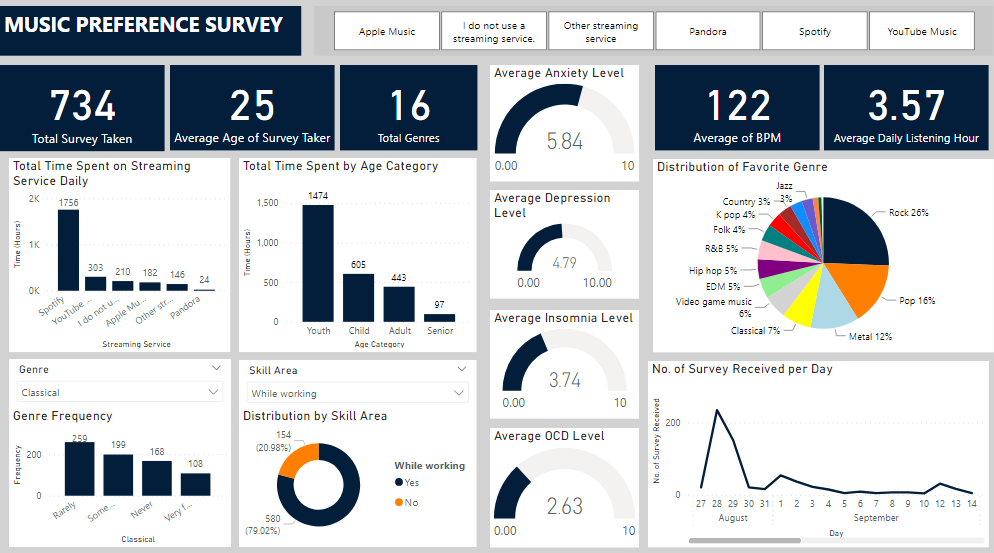

Layout of this report page (visuals, bound fields, positions):
{"tool":"powerbi","page":{"name":"Page 1","canvas":[1280,720],"ordinal":0},"visuals":[{"type":"textbox","box":[0,13.4,388,63.8],"z":0},{"type":"slicer","fields":{"Values":["survey_result.Primary streaming service"]},"box":[404.8,13.4,875.2,63.8],"z":1000},{"type":"card","fields":{"Values":["CountNonNull(survey_result.Timestamp)"]},"box":[0,89,211.7,110.9],"z":2000},{"type":"card","fields":{"Values":["Avg(survey_result.Age)"]},"box":[219.3,89.1,212.2,110.3],"z":3000},{"type":"card","fields":{"Values":["Avg(survey_result.BPM)"]},"box":[843.1,89.1,212.2,110.3],"z":4000},{"type":"card","fields":{"Values":["Avg(survey_result.Hours per day)"]},"box":[1060.9,89.1,212.2,110.3],"z":5000},{"type":"columnChart","title":"Total Time Spent on Streaming Service Daily","fields":{"Y":["Sum(survey_result.Hours per day)"],"Category":["survey_result.Primary streaming service"]},"box":[12,209,285,250],"z":6000},{"type":"clusteredColumnChart","title":"Total Time Spent by Age Category","fields":{"Category":["survey_result.Age Category"],"Y":["Sum(survey_result.Hours per day)"]},"box":[308,209,306,250],"z":7000},{"type":"slicer","fields":{"Values":["Parameter.Parameter"]},"box":[11,467,286,64],"z":8000},{"type":"columnChart","title":"Genre Frequency","fields":{"Category":["survey_result.Frequency [Country]"],"Y":["CountNonNull(survey_result.Timestamp)"]},"box":[11,531,286,179],"z":9000},{"type":"slicer","fields":{"Values":["Yes and No.Yes and No"]},"box":[308,469,306,62],"z":10000},{"type":"donutChart","title":"Distribution by Skill Area","fields":{"Category":["survey_result.Composer"],"Y":["CountNonNull(survey_result.Timestamp)"]},"box":[308,531,306,179],"z":11000},{"type":"lineChart","title":"No. of Survey Received  per Day","fields":{"Y":["CountNonNull(survey_result.Timestamp)"],"Category":["survey_result.Timestamp.Variation.Date Hierarchy.Month","survey_result.Timestamp.Variation.Date Hierarchy.Day"]},"box":[834.6,469.6,438.5,240.5],"z":12000},{"type":"gauge","title":"Average Anxiety Level","fields":{"Y":["Avg(survey_result.Anxiety)"],"MaxValue":["Max(survey_result.Anxiety)1"]},"box":[630.9,89.1,192.4,149.9],"z":13000},{"type":"gauge","title":"Average Depression Level","fields":{"Y":["Avg(survey_result.Depression)"],"MaxValue":["Max(survey_result.Depression)1"]},"box":[630.9,250.4,192.4,140],"z":14000},{"type":"gauge","title":"Average Insomnia Level","fields":{"Y":["Avg(survey_result.Insomnia)"],"MaxValue":["Max(survey_result.Insomnia)"]},"box":[630.9,404.6,192.4,140],"z":15000},{"type":"pieChart","title":"Distribution of Favorite Genre","fields":{"Y":["CountNonNull(survey_result.Fav genre)"],"Category":["survey_result.Fav genre"]},"box":[841.7,209.4,438.5,249],"z":16000},{"type":"card","fields":{"Values":["Count(survey_result.Fav genre)"]},"box":[438.5,89.1,176.8,110.3],"z":17000},{"type":"gauge","title":"Average OCD Level","fields":{"Y":["Avg(survey_result.OCD)"],"MaxValue":["Max(survey_result.OCD)1"]},"box":[630.9,555.9,192.4,154.2],"z":18000}]}

Visuals, with their boxes in screenshot pixels (x1, y1, x2, y2), scaled from the page's 1280x720 canvas onto the 994x553 screenshot:
textbox: {"left": 0, "top": 10, "right": 301, "bottom": 59}
slicer - survey_result.Primary streaming service: {"left": 314, "top": 10, "right": 993, "bottom": 59}
card - CountNonNull(survey_result.Timestamp): {"left": 0, "top": 68, "right": 164, "bottom": 154}
card - Avg(survey_result.Age): {"left": 170, "top": 68, "right": 335, "bottom": 153}
card - Avg(survey_result.BPM): {"left": 655, "top": 68, "right": 820, "bottom": 153}
card - Avg(survey_result.Hours per day): {"left": 824, "top": 68, "right": 989, "bottom": 153}
"Total Time Spent on Streaming Service Daily" columnChart: {"left": 9, "top": 161, "right": 231, "bottom": 353}
"Total Time Spent by Age Category" clusteredColumnChart: {"left": 239, "top": 161, "right": 477, "bottom": 353}
slicer - Parameter.Parameter: {"left": 9, "top": 359, "right": 231, "bottom": 408}
"Genre Frequency" columnChart: {"left": 9, "top": 408, "right": 231, "bottom": 545}
slicer - Yes and No.Yes and No: {"left": 239, "top": 360, "right": 477, "bottom": 408}
"Distribution by Skill Area" donutChart: {"left": 239, "top": 408, "right": 477, "bottom": 545}
"No. of Survey Received  per Day" lineChart: {"left": 648, "top": 361, "right": 989, "bottom": 545}
"Average Anxiety Level" gauge: {"left": 490, "top": 68, "right": 639, "bottom": 184}
"Average Depression Level" gauge: {"left": 490, "top": 192, "right": 639, "bottom": 300}
"Average Insomnia Level" gauge: {"left": 490, "top": 311, "right": 639, "bottom": 418}
"Distribution of Favorite Genre" pieChart: {"left": 654, "top": 161, "right": 993, "bottom": 352}
card - Count(survey_result.Fav genre): {"left": 341, "top": 68, "right": 478, "bottom": 153}
"Average OCD Level" gauge: {"left": 490, "top": 427, "right": 639, "bottom": 545}
